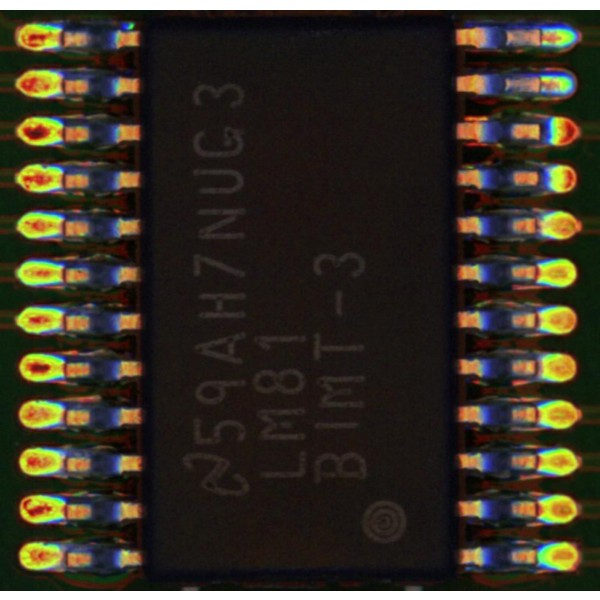Bad_podu: (45, 31, 79, 47), (48, 127, 82, 140), (44, 173, 78, 186), (527, 81, 563, 93), (45, 269, 83, 280), (46, 220, 78, 233), (46, 363, 80, 375), (525, 218, 556, 231), (531, 32, 559, 45), (48, 505, 78, 517), (523, 503, 550, 516), (525, 268, 547, 280), (527, 457, 549, 469)
